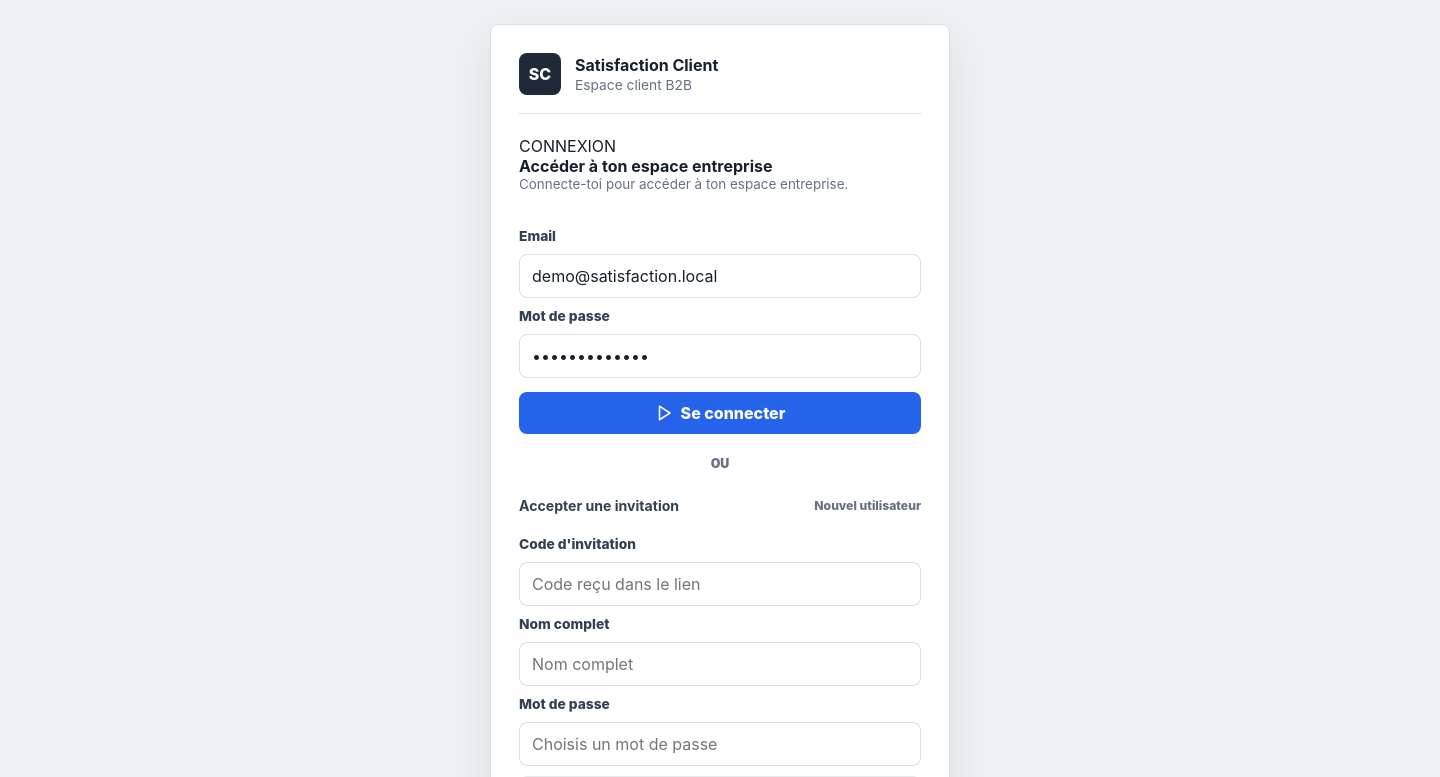
Test: App authentication and permissions › opens an authenticated session after a successful login
The image size is (1440, 777).
Click the button "Se connecter": (720, 413) [519,392,921,434]
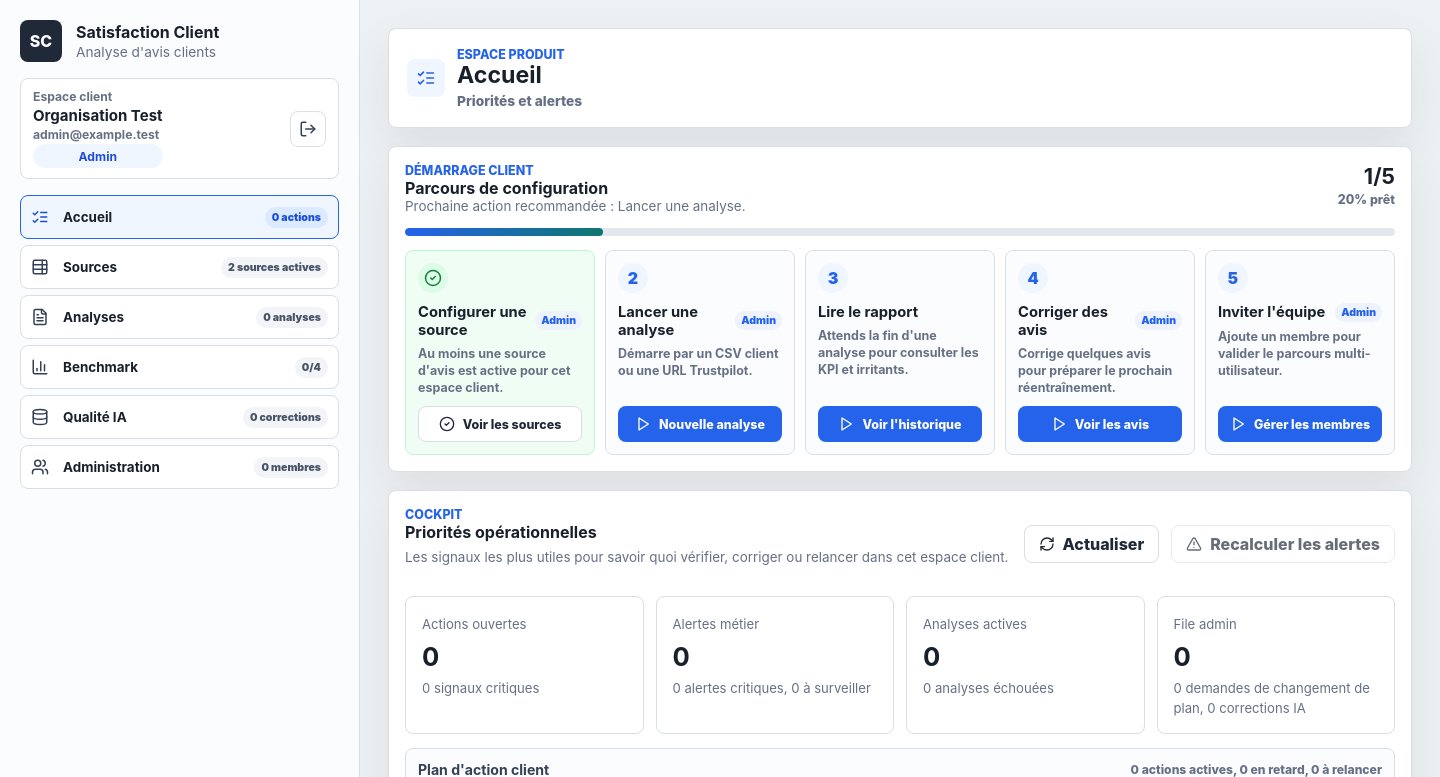
Check: the text "admin@example.test" is shown, box [33,127,163,142]
Check: the text "Organisation Test" is shown, box [33,106,163,125]
